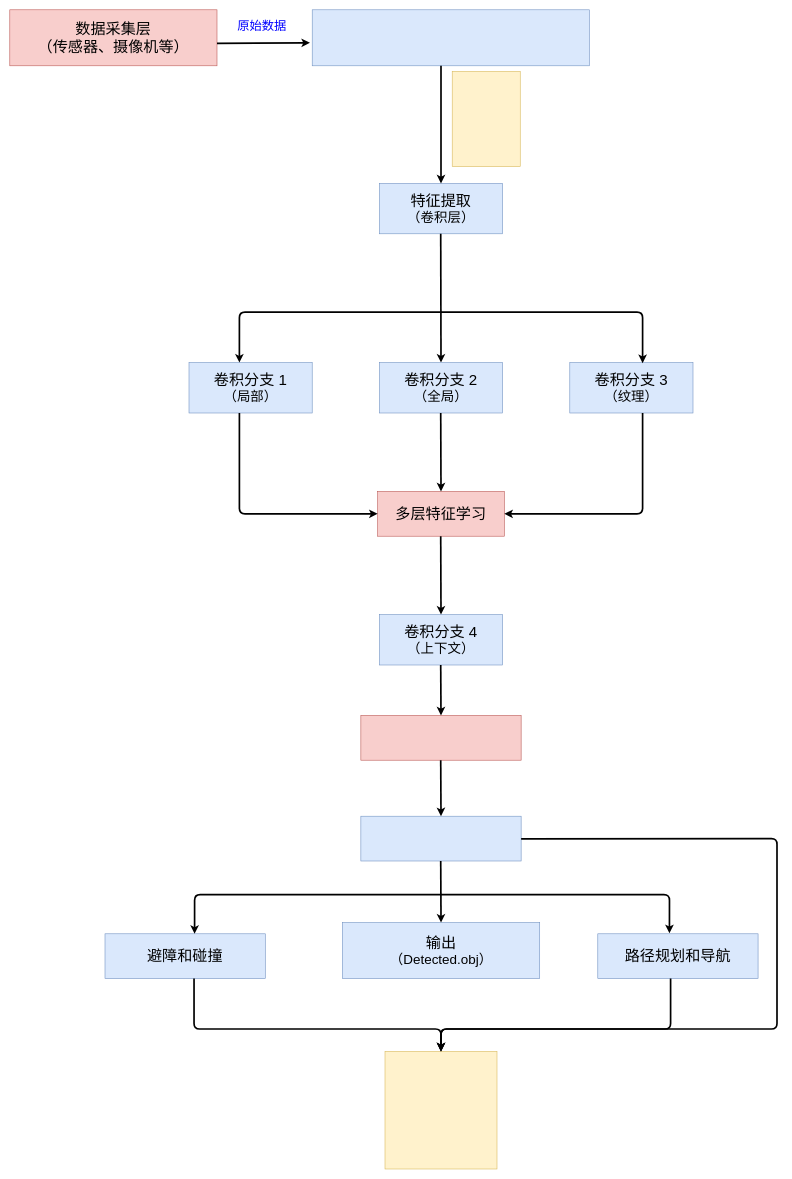
This 792x1179 diagram has some shape labels left out. Here are the shapes that lost their labels. From the top down, the centre of each, then its label:
[450,37]: 预处理 （噪声去除、颜色校正、数据增强）
[486,119]: 深度映射和 环境理解
[440,737]: 多尺度特征融合
[440,838]: 检测和分类
[440,1110]: 控制 和 动作 （油门、转向等）
